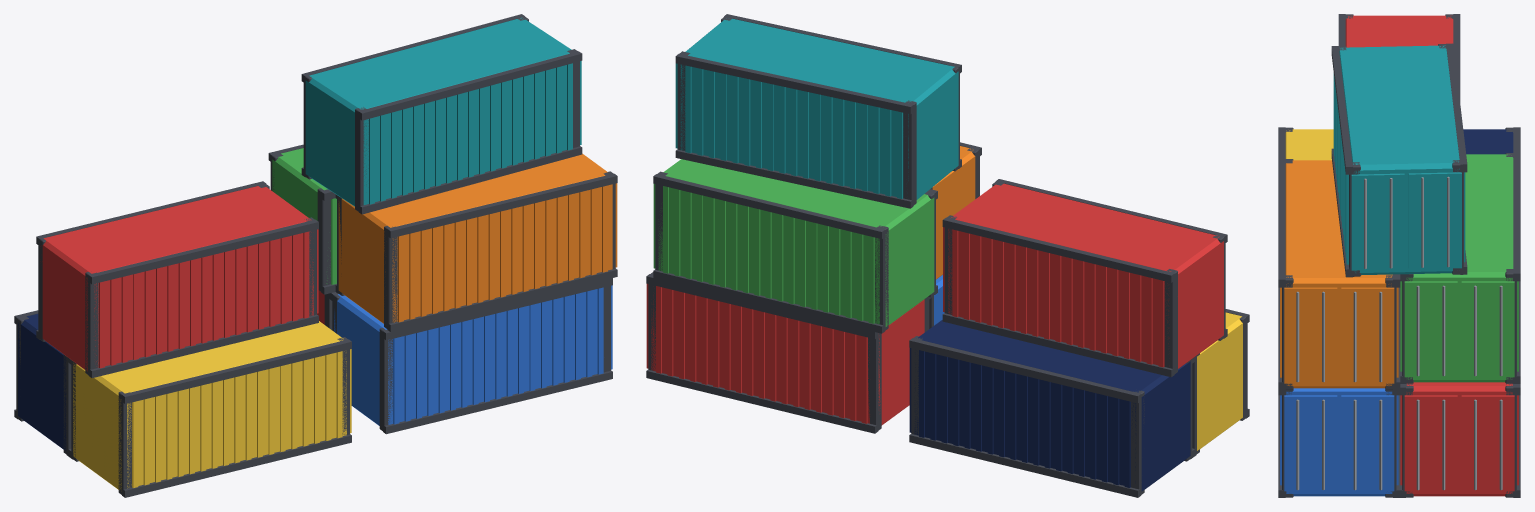
Rendered from ContainerStack.fbx.
3 renders of one model, left to right at view 1: azimuth 30°, elevation 25°; view 2: azimuth 150°, elevation 25°; view 3: azimuth 270°, elevation 25°, orthographic. The views are drawn at different scales.
Parts seen in each view (by area): view 1: ContainerStack_DarkMetal, ContainerStack_Red, ContainerStack_Teal, ContainerStack_Orange, ContainerStack_Yellow, ContainerStack_Blue, ContainerStack_Navy, ContainerStack_Green; view 2: ContainerStack_Red, ContainerStack_DarkMetal, ContainerStack_Teal, ContainerStack_Green, ContainerStack_Navy, ContainerStack_Yellow, ContainerStack_Orange; view 3: ContainerStack_Teal, ContainerStack_Orange, ContainerStack_Green, ContainerStack_Red, ContainerStack_DarkMetal, ContainerStack_Blue, ContainerStack_Metal, ContainerStack_Yellow, ContainerStack_Navy.
Part boxes in pixels (x1,y1,x2,y2): ContainerStack_DarkMetal: [14, 14, 617, 497]; ContainerStack_Red: [40, 186, 324, 371]; ContainerStack_Teal: [305, 17, 581, 206]; ContainerStack_Orange: [338, 153, 617, 323]; ContainerStack_Yellow: [73, 321, 351, 491]; ContainerStack_Blue: [334, 285, 612, 425]; ContainerStack_Navy: [18, 314, 66, 450]; ContainerStack_Green: [272, 148, 336, 284]; ContainerStack_Red: [646, 183, 1223, 425]; ContainerStack_DarkMetal: [646, 14, 1249, 497]; ContainerStack_Teal: [675, 18, 958, 199]; ContainerStack_Green: [653, 159, 934, 326]; ContainerStack_Navy: [909, 320, 1190, 491]; ContainerStack_Yellow: [1197, 312, 1242, 450]; ContainerStack_Orange: [932, 146, 975, 279]; ContainerStack_Teal: [1333, 45, 1465, 275]; ContainerStack_Orange: [1280, 160, 1398, 388]; ContainerStack_Green: [1400, 154, 1518, 382]; ContainerStack_Red: [1345, 15, 1518, 496]; ContainerStack_DarkMetal: [1278, 14, 1520, 497]; ContainerStack_Blue: [1280, 388, 1398, 496]; ContainerStack_Metal: [1296, 176, 1502, 490]; ContainerStack_Yellow: [1285, 129, 1333, 160]; ContainerStack_Navy: [1463, 129, 1513, 154].
Size of the model in its own units: 44.35 by 25.5 by 16.9.
